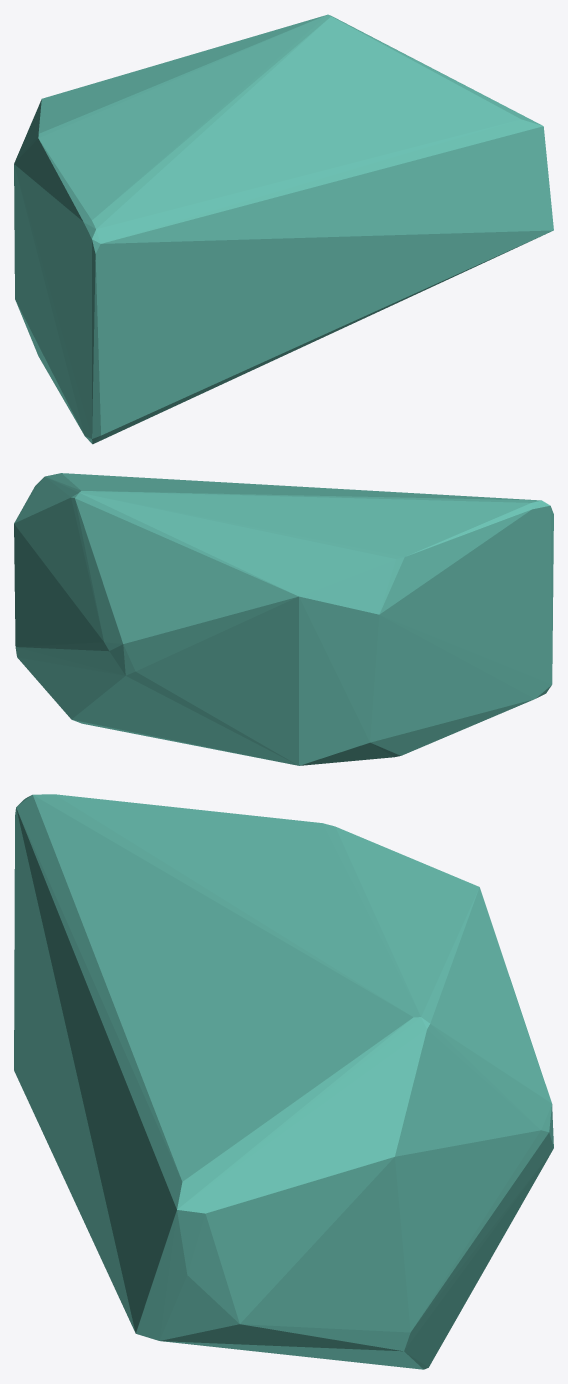
The model's file is climate_heater_dieselTorpedo_a01.glb.
3 renders of one model, top to bottom at view 1: azimuth 30°, elevation 25°; view 2: azimuth 150°, elevation 25°; view 3: azimuth 270°, elevation 25°, orthographic. The views are drawn at different scales.
Parts seen in each view (by area): view 1: geometry_0; view 2: geometry_0; view 3: geometry_0.
Part boxes in pixels (x1,y1,x2,y2): geometry_0: (14, 14, 553, 444); geometry_0: (14, 473, 553, 765); geometry_0: (14, 794, 553, 1369).
Size of the model in its own units: 0.479 by 0.2301 by 0.3186.
